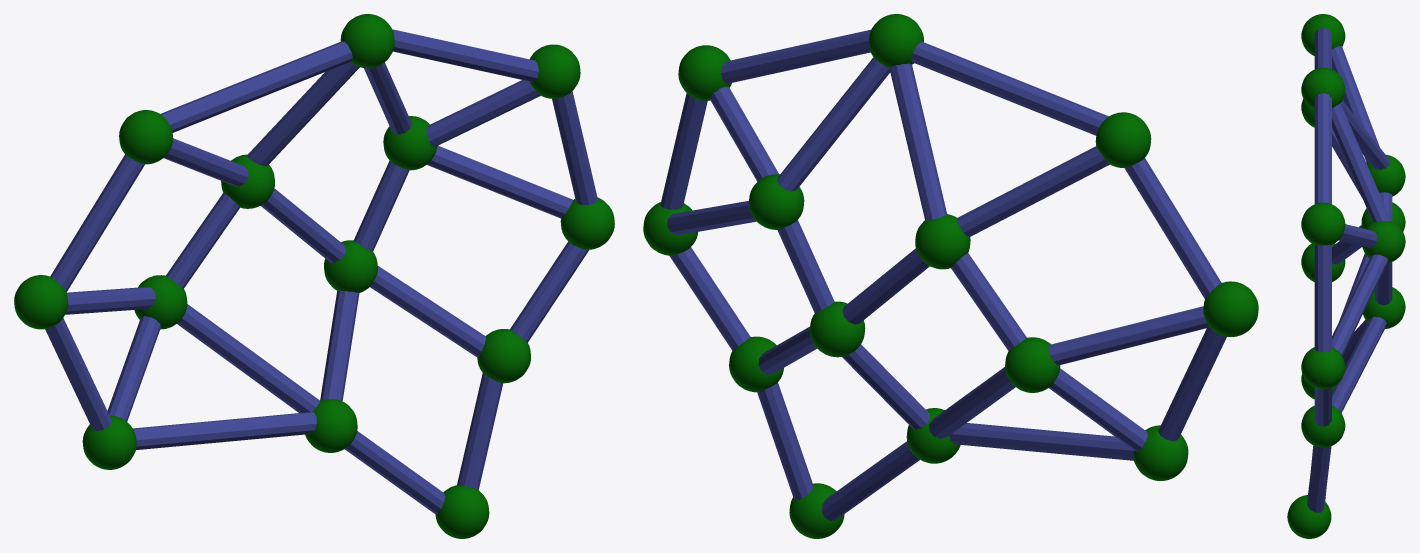
The model's file is brain.gltf.
3 renders of one model, left to right at view 1: azimuth 30°, elevation 25°; view 2: azimuth 150°, elevation 25°; view 3: azimuth 270°, elevation 25°, orthographic. The views are drawn at different scales.
Visible parts, largest first — view 1: pCylinder23; view 2: pCylinder23; view 3: pCylinder23.
Boxes of the visible parts, x1=… form: pCylinder23: x1=14, y1=14, x2=614, y2=538; pCylinder23: x1=643, y1=14, x2=1258, y2=538; pCylinder23: x1=1287, y1=14, x2=1405, y2=538.
Bounding box in the file's own units: 9.5 × 8.18 × 2.02.
